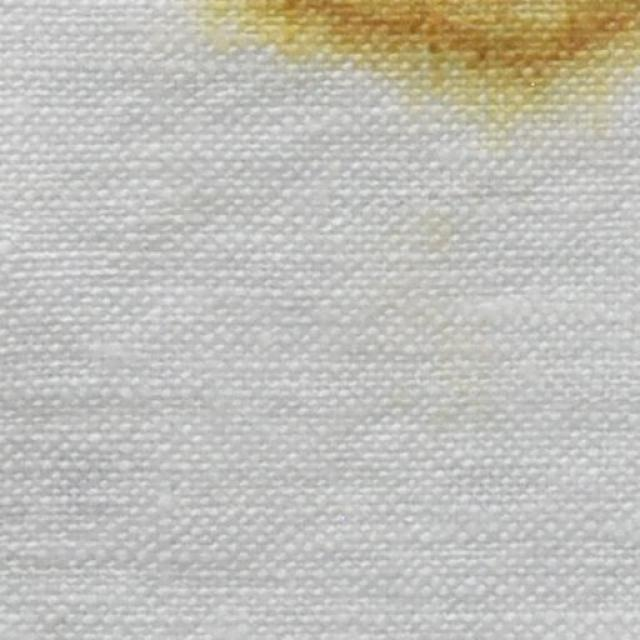Stain: (188, 0, 640, 130)
